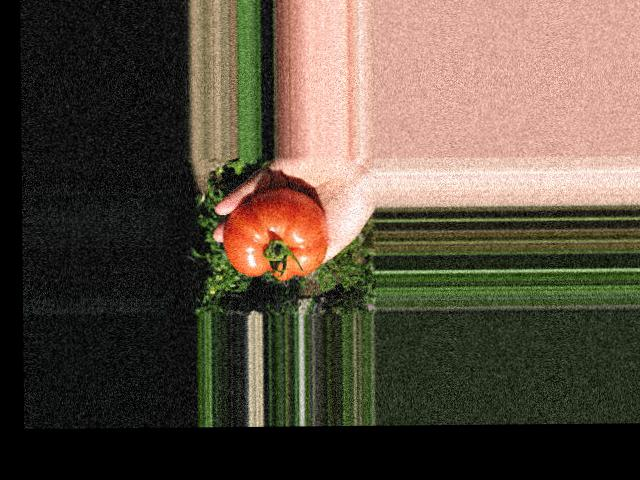tomato: (222, 188, 327, 280)
